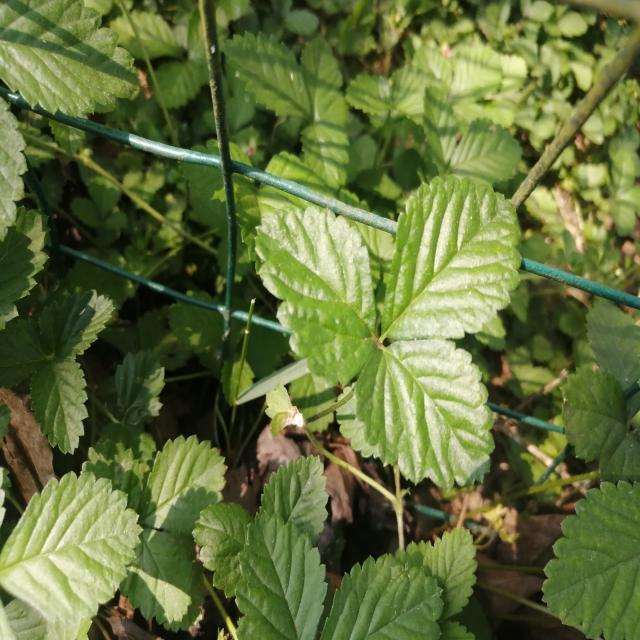Mock_strawberry: (265, 184, 524, 485)
